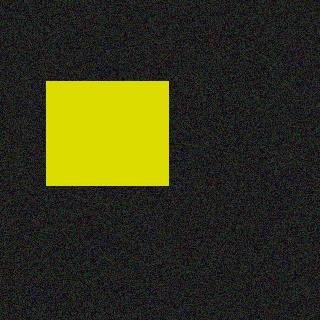yellow_barrel: (46, 82, 168, 186)
